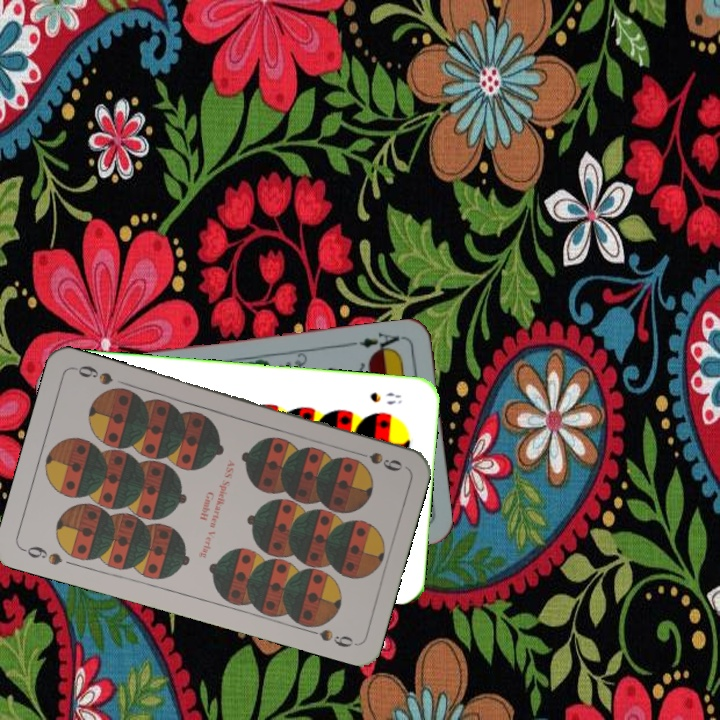EA: (347, 328, 406, 357)
S8: (366, 388, 404, 407)
S9: (348, 446, 405, 474), (19, 542, 65, 568)
